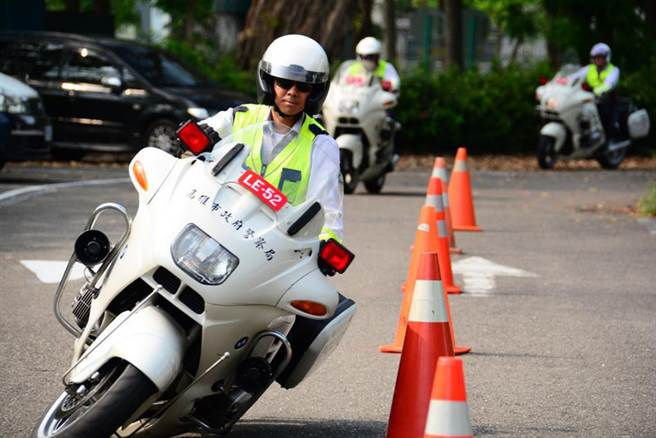helmet: (250, 34, 337, 94), (354, 34, 381, 62), (588, 41, 613, 64)
